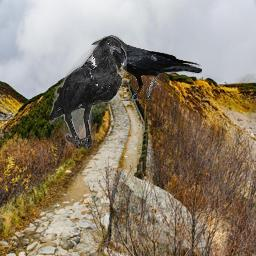Crow: (49, 36, 127, 149), (91, 34, 202, 101)
